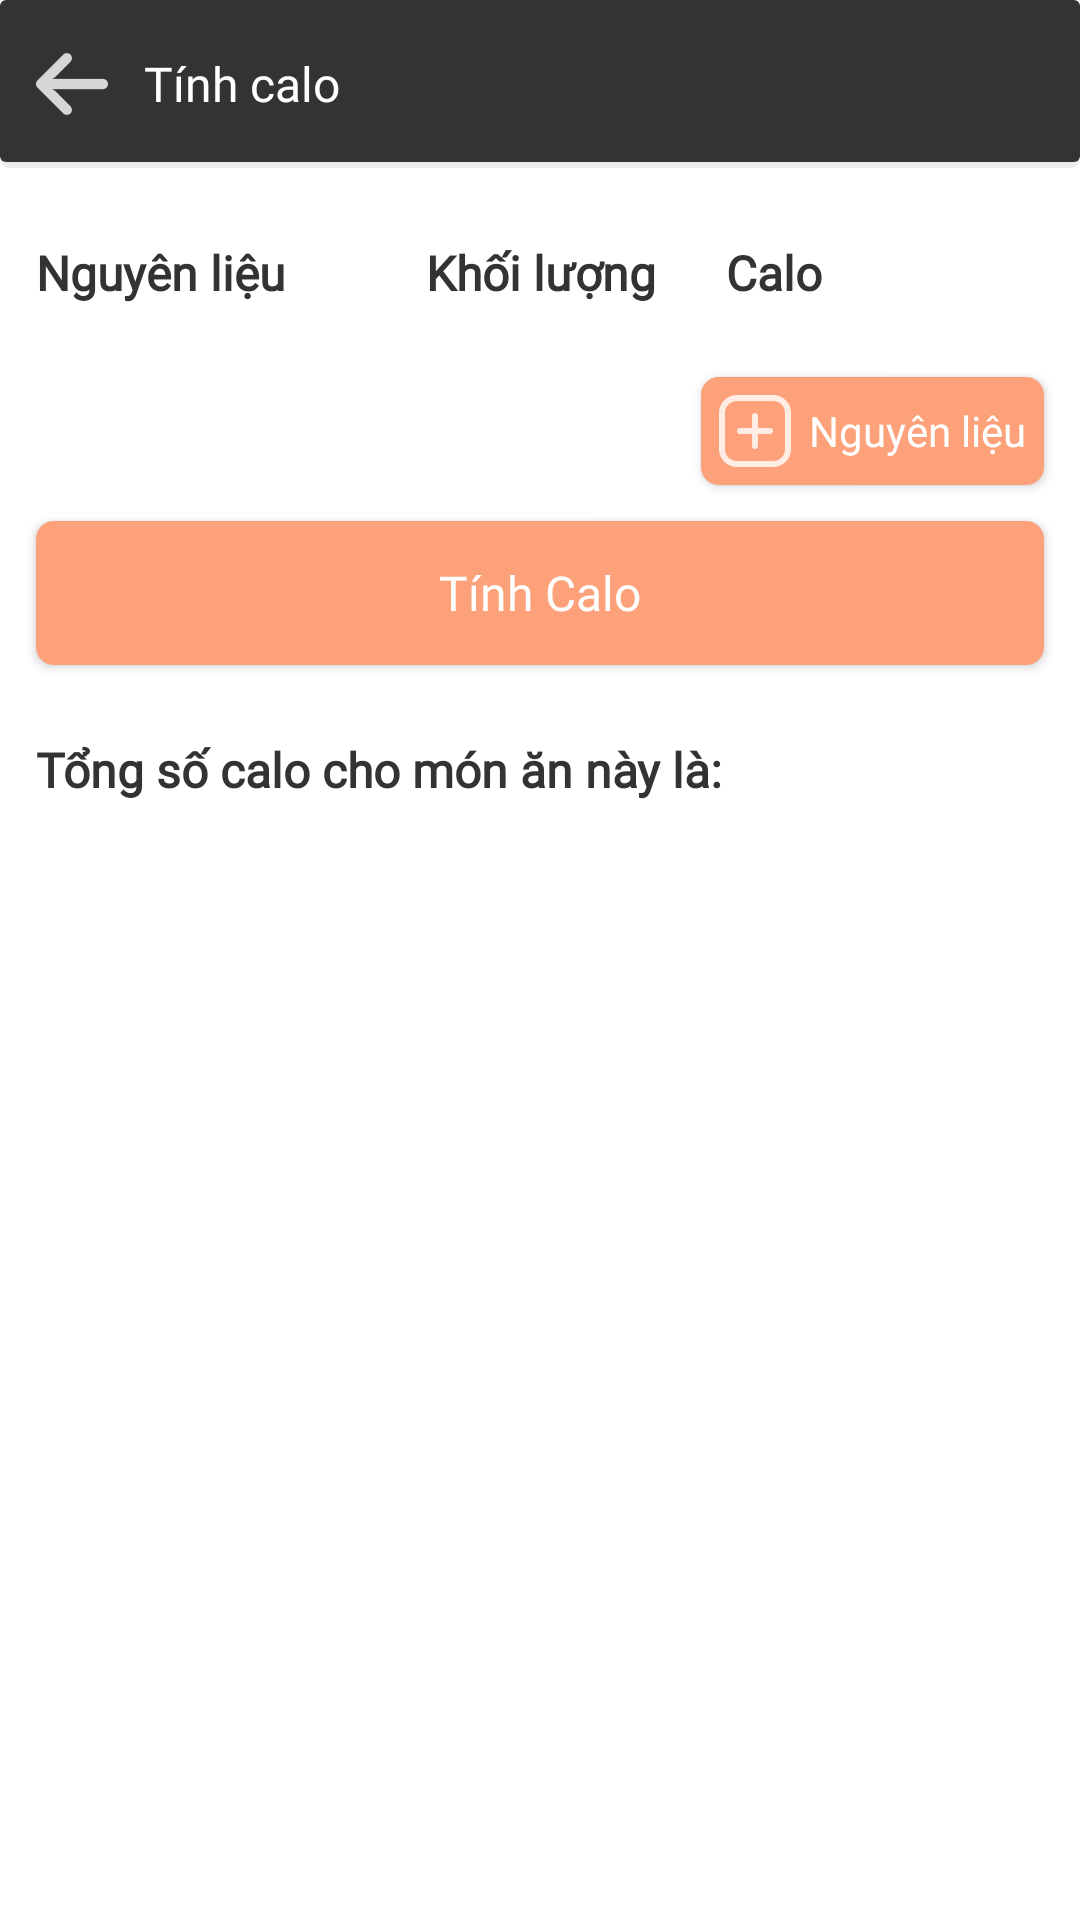

Locate icon controls on the screen. Image size 1080*1920, boxes as (x1, y1, x2, y2).
back: (36, 53, 108, 115)
